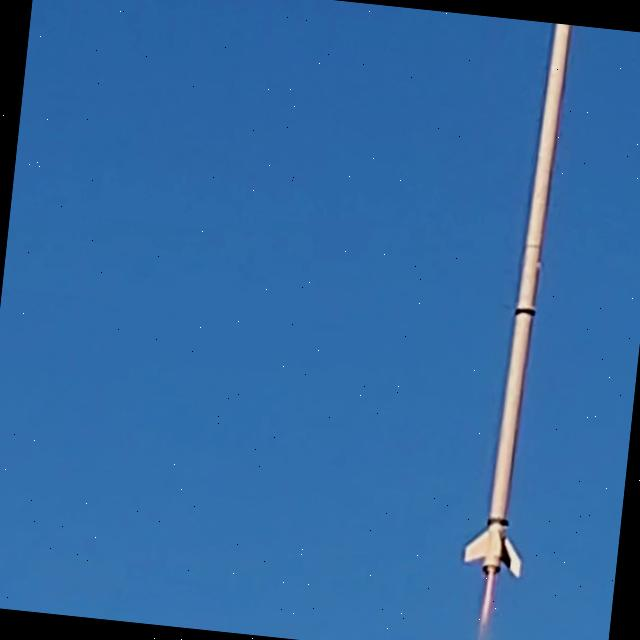rocket: (462, 23, 576, 623)
